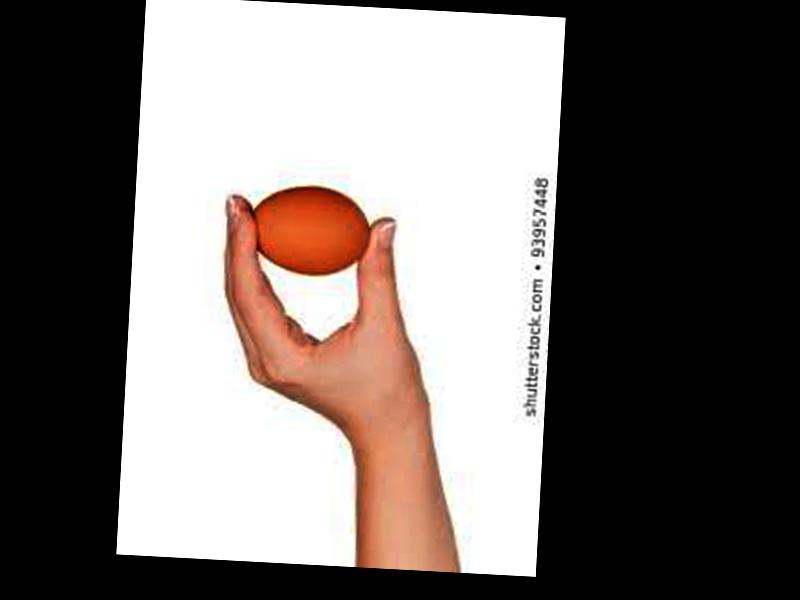Eggs: (242, 183, 373, 276)
